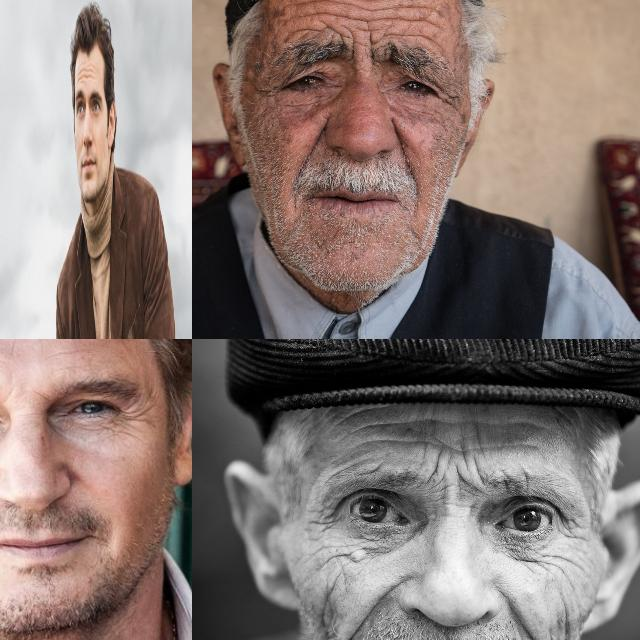crows_feet: (310, 490, 340, 538), (558, 511, 588, 555), (112, 398, 142, 430), (258, 80, 280, 100), (442, 90, 460, 110)
forehead: (343, 411, 412, 452), (484, 432, 534, 458), (298, 22, 350, 40), (397, 24, 431, 48), (300, 6, 338, 24), (394, 0, 430, 16), (356, 12, 384, 32), (51, 346, 87, 358), (295, 0, 334, 6), (86, 60, 96, 81), (346, 0, 387, 4), (76, 62, 84, 80)
frown_line: (429, 442, 476, 508), (33, 386, 55, 402), (367, 39, 379, 65), (346, 37, 360, 59)
gummy_smile: (350, 572, 396, 640), (499, 586, 538, 640), (299, 122, 325, 172), (392, 122, 416, 174)
masseter: (312, 575, 336, 635), (557, 591, 579, 640)
